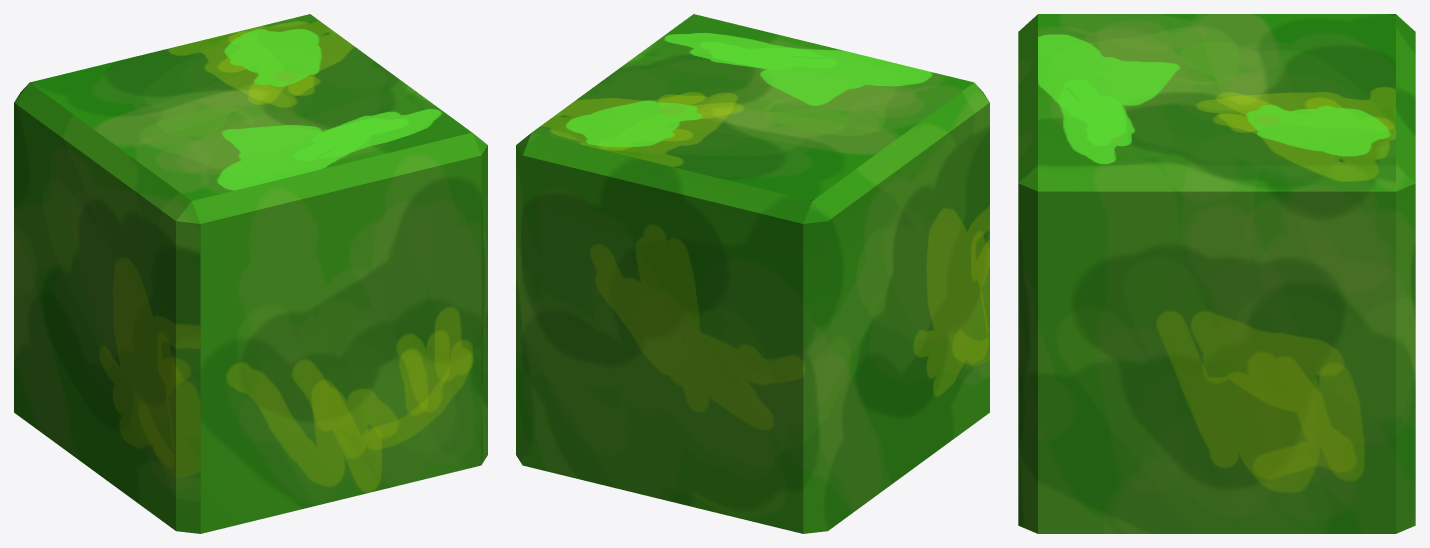
File: Grass.fbx
3 views of the same model, side by side, from view 1: azimuth 30°, elevation 25°; view 2: azimuth 150°, elevation 25°; view 3: azimuth 270°, elevation 25° (orthographic). The views are drawn at different scales.
Parts seen in each view (by area): view 1: Cube; view 2: Cube; view 3: Cube.
Boxes of the visible parts, box(x1,y1,x2,y2) form: Cube: box(14, 14, 487, 533); Cube: box(516, 14, 989, 533); Cube: box(1018, 14, 1415, 533).
Bounding box in the file's own units: 200 × 200 × 200.
